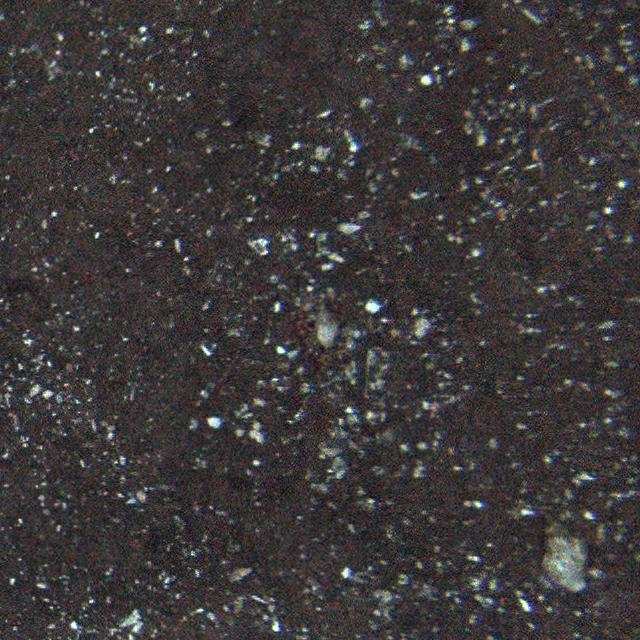whelk: (534, 504, 595, 594)
